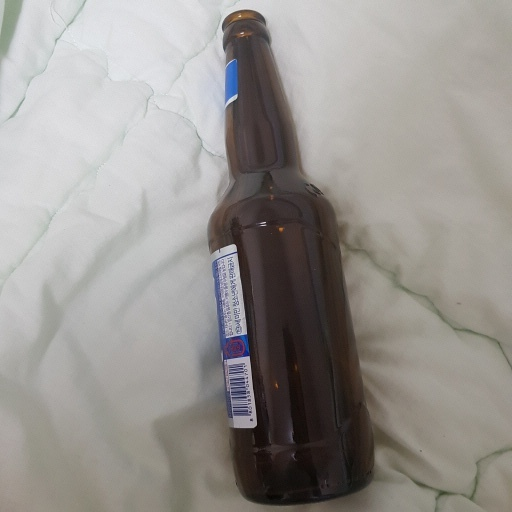Glass_1: (200, 8, 379, 500)
